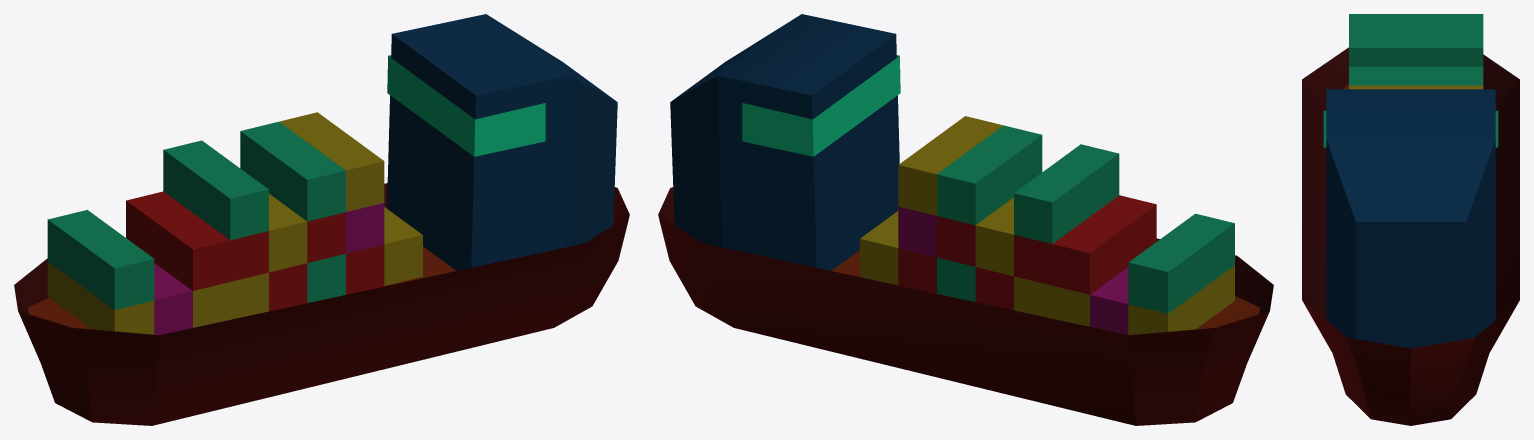
The model's file is containership.FBX.
3 views of the same model, side by side, from view 1: azimuth 30°, elevation 25°; view 2: azimuth 150°, elevation 25°; view 3: azimuth 270°, elevation 25° (orthographic).
Parts seen in each view (by area): view 1: Box004; view 2: Box004; view 3: Box004.
Boxes of the visible parts, x1=… form: Box004: x1=14, y1=14, x2=629, y2=425; Box004: x1=658, y1=14, x2=1273, y2=425; Box004: x1=1302, y1=14, x2=1519, y2=425.
Size of the model in its own units: 145 by 60.39 by 45.54.
